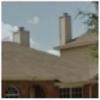chimneys: (58, 12, 73, 45), (12, 27, 30, 49)
